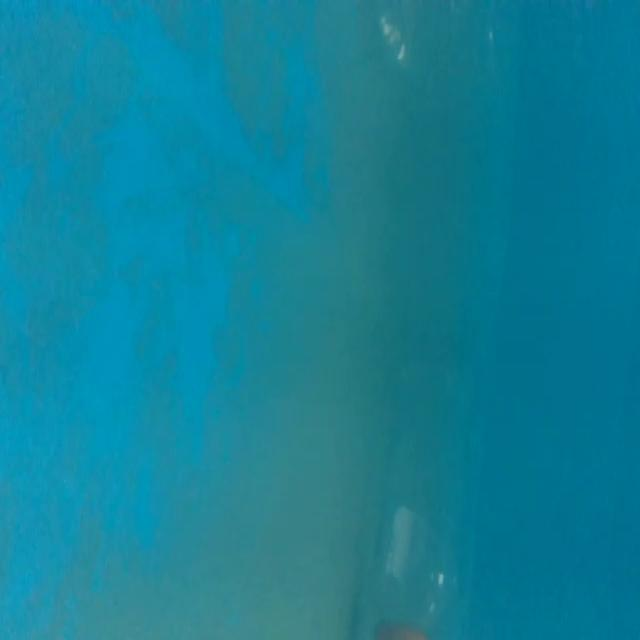plastic bottle: (367, 320, 475, 640)
